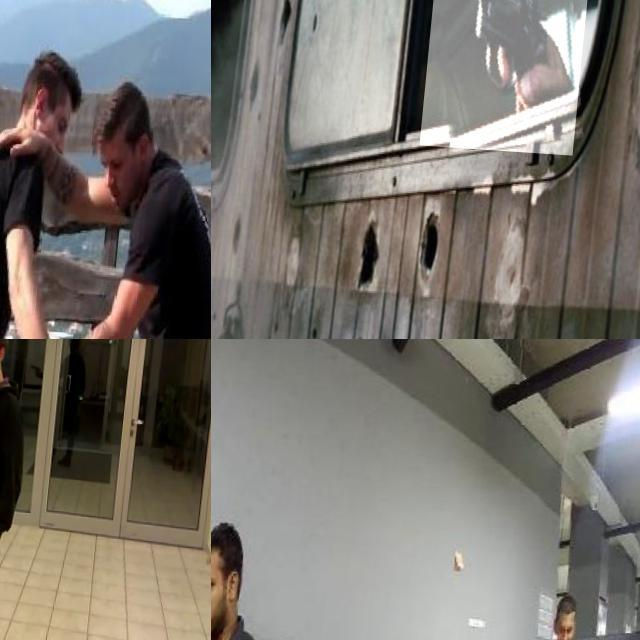gun-knife-thesis - v11 Yolov5 augmented: (428, 0, 599, 148), (0, 395, 18, 437)
